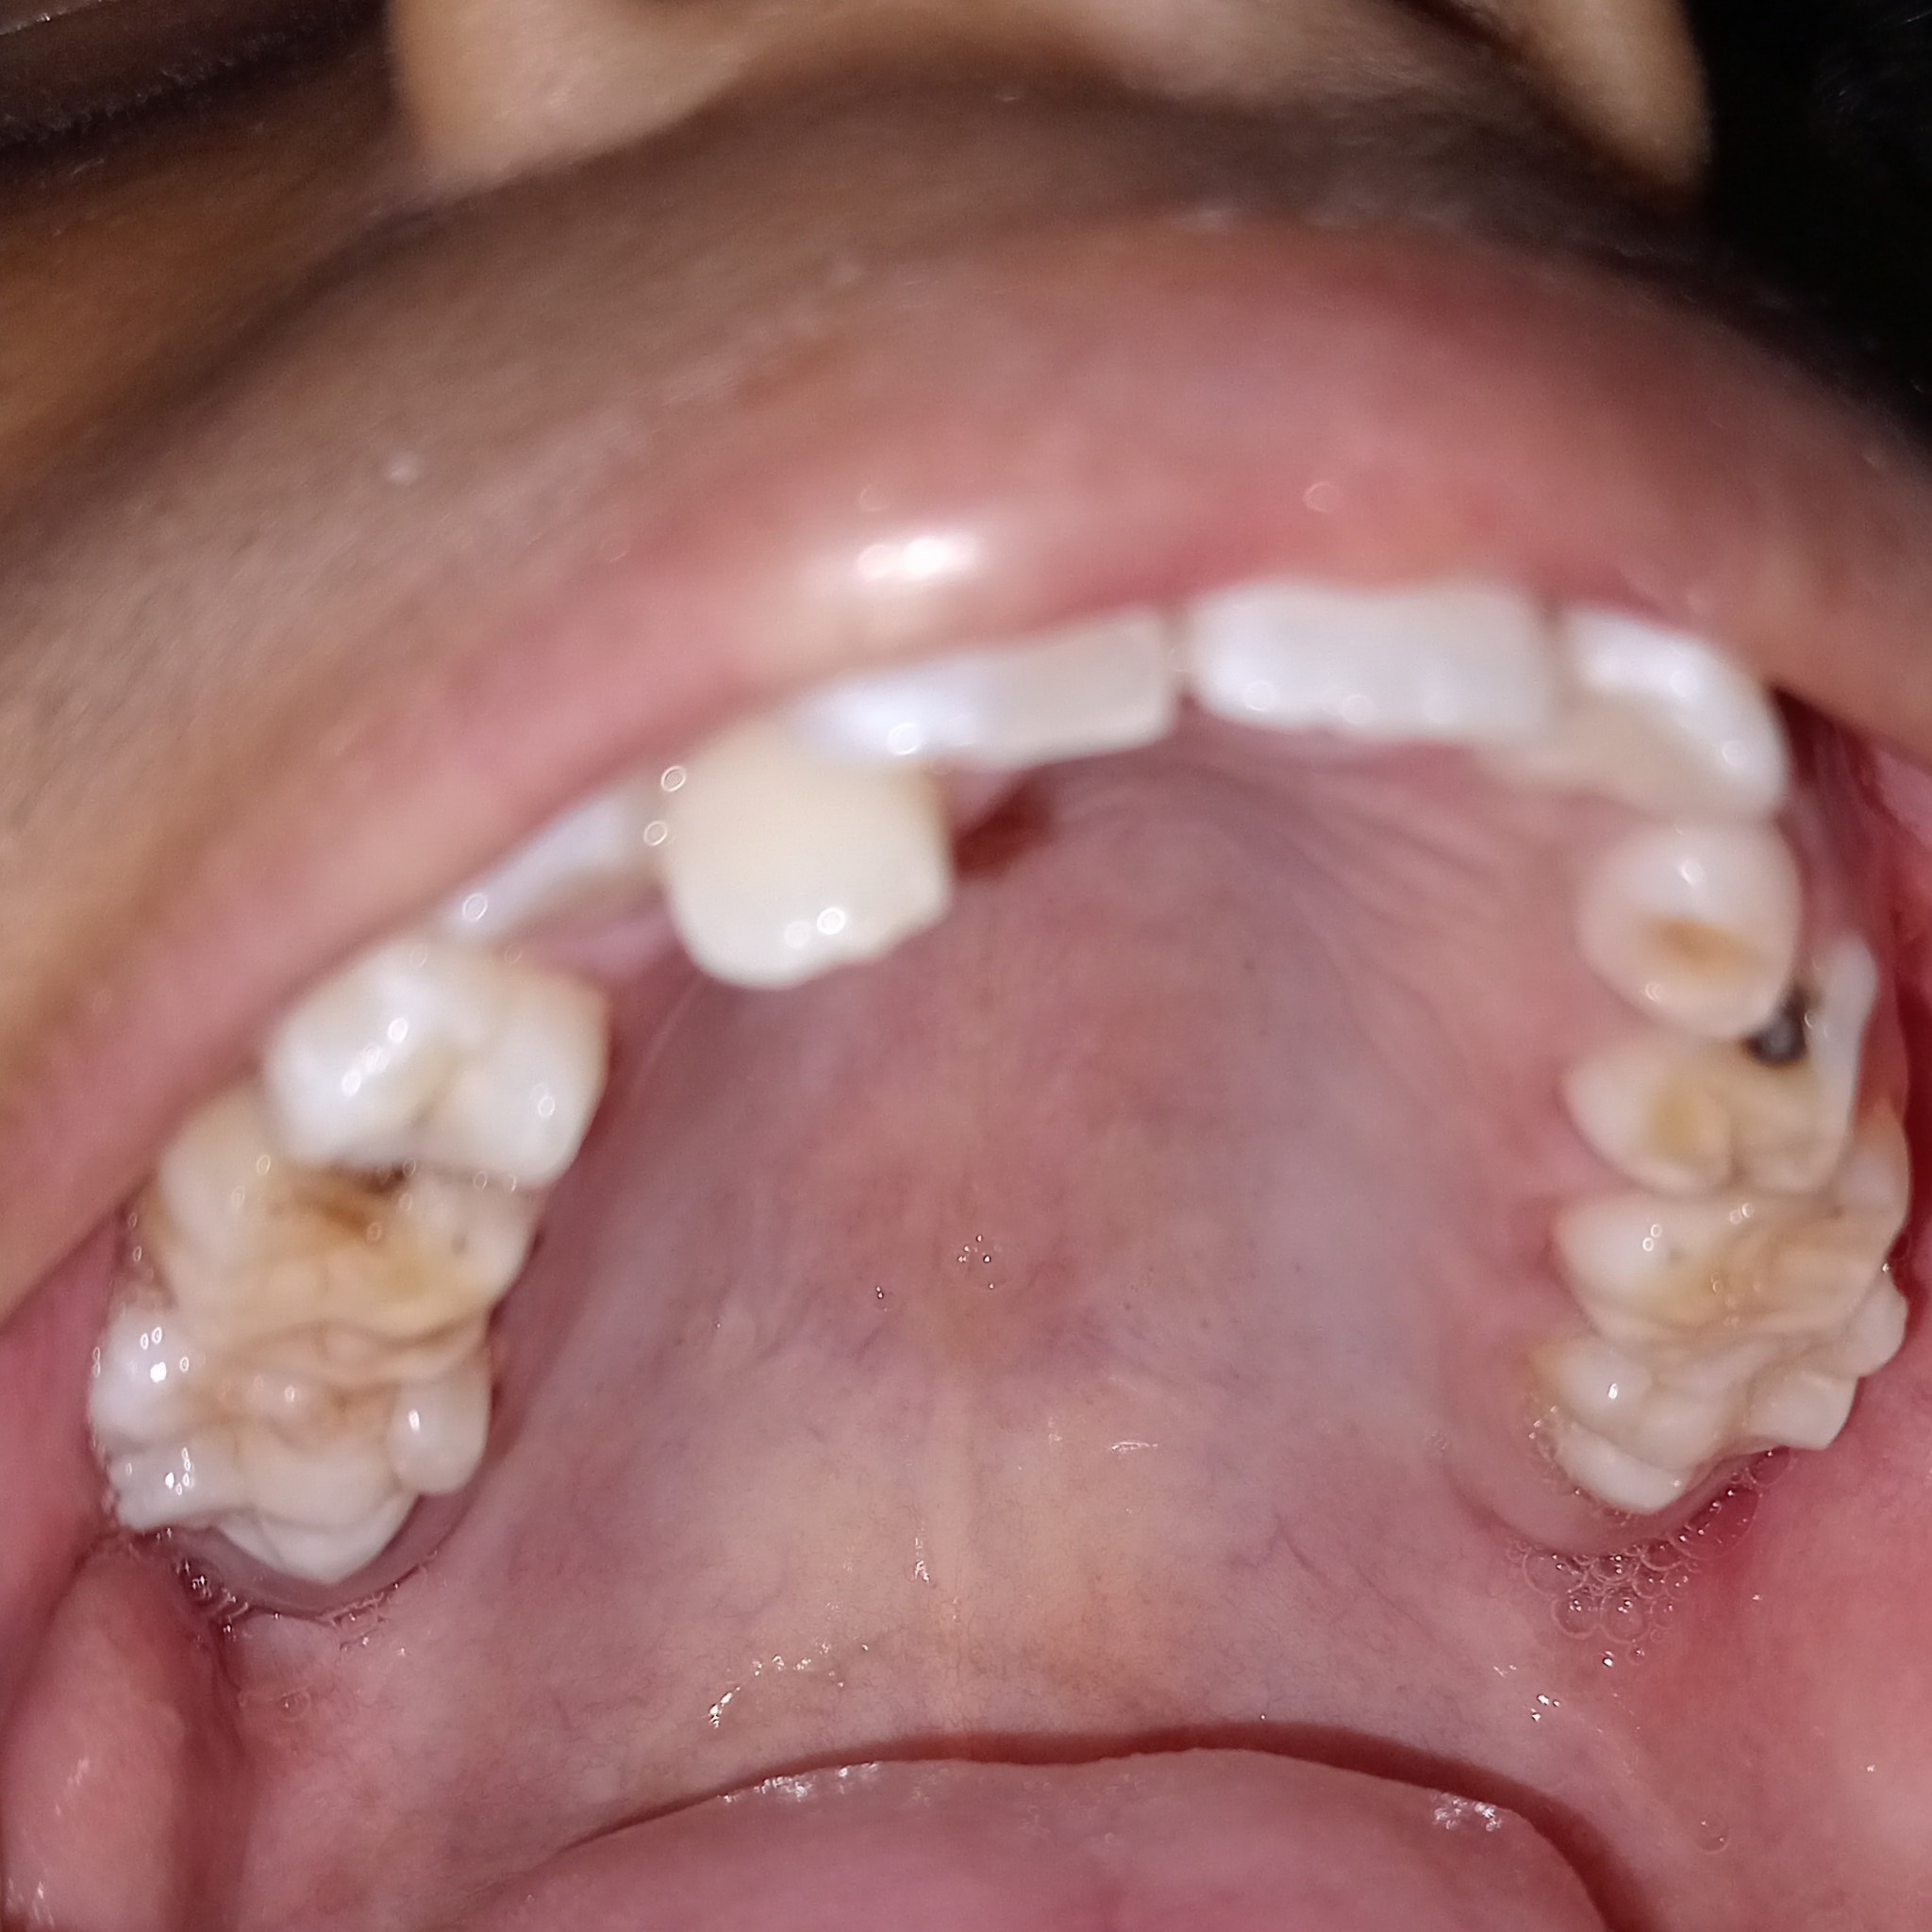d: (132, 1089, 520, 1365), (1569, 930, 1891, 1198)
